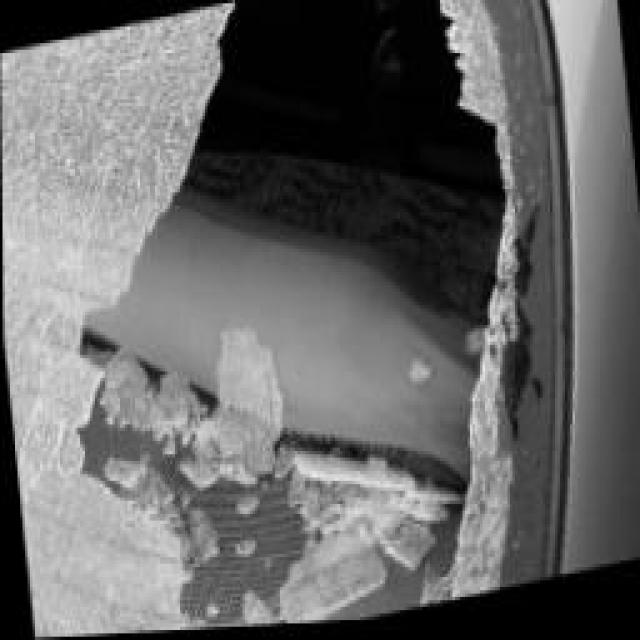Windshield: (0, 0, 578, 640)
